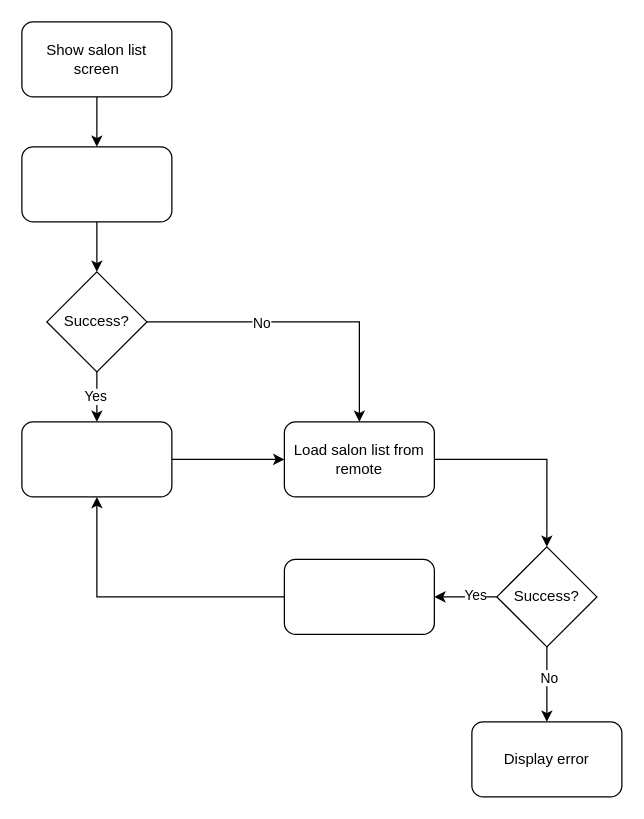
Some shapes in this 644 by 819 pixel diagram are drawn without their labels. The shapes that lost their labels are listed below. From the top down, each one's centre as x and y in pixels, then its label:
point 96,184: Load salon list from cache
point 96,459: Display Image Feed
point 358,596: cache salon list
